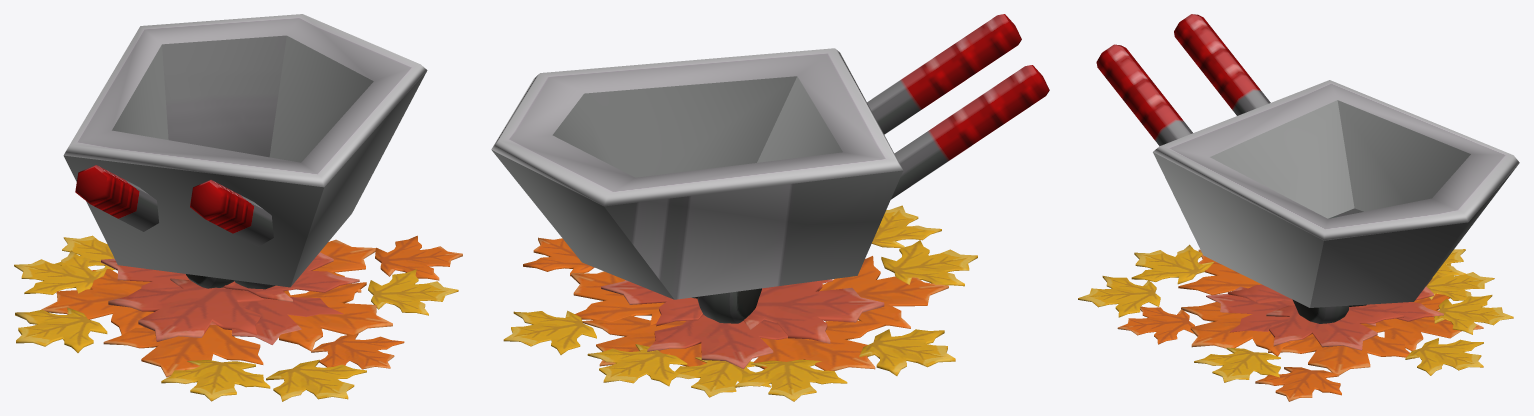
Rendered from InTheLoopOdysseyStatue.fbx.
3 renders of one model, left to right at view 1: azimuth 30°, elevation 25°; view 2: azimuth 150°, elevation 25°; view 3: azimuth 270°, elevation 25°, orthographic. The views are drawn at different scales.
Visible parts, largest first — view 1: InTheLoopOdysseyStatue; view 2: InTheLoopOdysseyStatue; view 3: InTheLoopOdysseyStatue.
Boxes of the visible parts, x1,y1,x2,y2 form: InTheLoopOdysseyStatue: (14,14,462,401); InTheLoopOdysseyStatue: (491,14,1049,401); InTheLoopOdysseyStatue: (1078,14,1519,401).
Size of the model in its own units: 20.38 by 10.36 by 20.05.
Materials: 1 (1 with a texture image).
